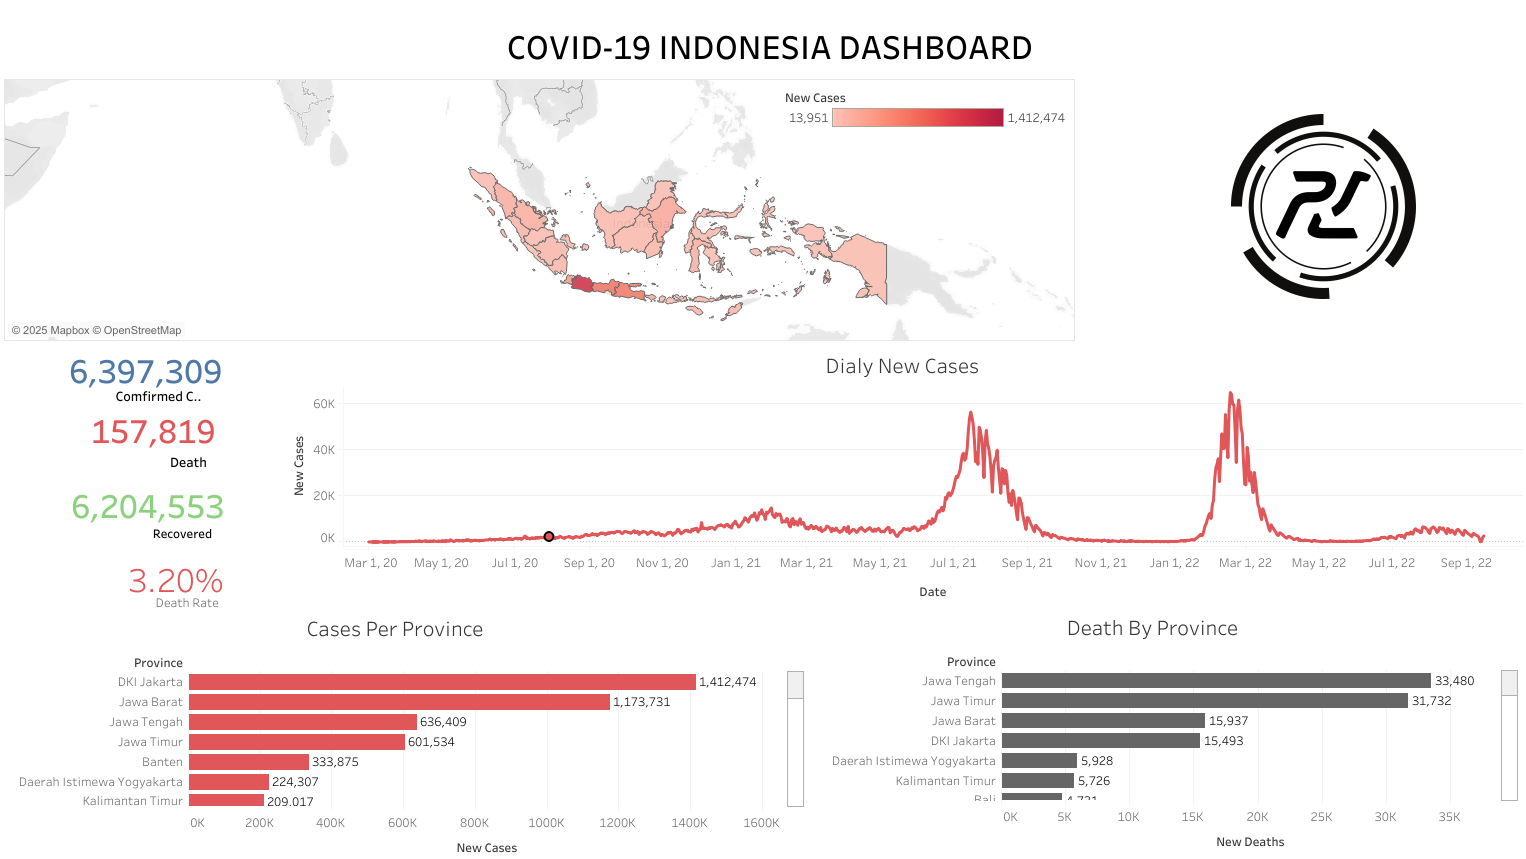

Layout of this report page (visuals, bound fields, positions):
{"tool":"tableau","page":{"name":"Dashboard","canvas":[1000,1000],"units":"permille","ordinal":0},"visuals":[{"type":"blank","box":[0,0,1000,1000]},{"type":"text","box":[8.2,16.6,991.8,74.1]},{"type":"worksheet","title":"Map Distribution Covid","mark":"Automatic","box":[2.9,91.8,700.8,304.2]},{"type":"legend","title":"Map Distribution Covid","param":"[federated.0qubuvm1jc4x7k1gman311dftvfd].[sum:New Cases:qk]","box":[514,97.4,186.8,88.5]},{"type":"image","param":"Image/1_20250618_195004_0000.png","box":[806.3,132.7,121.1,214.6]},{"type":"worksheet","title":"Dialy New Cases","mark":"Automatic","rows":["New Cases"],"cols":["Date"],"box":[184.4,401.6,812.6,296.5]},{"type":"worksheet","title":"Confirmed Cases","mark":"Automatic","box":[31,404.9,151,58.6]},{"type":"text","box":[72.6,442.5,62.1,34.3]},{"type":"worksheet","title":"Death","mark":"Automatic","box":[53.3,474.6,136.4,57.5]},{"type":"text","box":[106,519.9,34.5,33.2]},{"type":"worksheet","title":"Recovered","mark":"Automatic","box":[32.2,562,152.8,73]},{"type":"text","box":[90.2,602.9,58.6,33.2]},{"type":"worksheet","title":"Death Rate","mark":"Automatic","box":[71.4,646,111.2,66.4]},{"type":"text","box":[100.1,682.5,43.3,33.2]},{"type":"worksheet","title":"Death By Province","mark":"Automatic","rows":["Province"],"cols":["New Deaths"],"box":[526.9,705.8,467.2,290.9]},{"type":"worksheet","title":"Cases Per Province","mark":"Automatic","rows":["Province"],"cols":["New Cases"],"box":[2.9,706.9,523.4,296.5]}]}

Visuals, with their boxes on the dashboard's canvas, which has no fixed pixel size, in thousandths of its width and height (x1, y1, x2, y2). These are canvas units, not pixel positions in the 1526x859 screenshot, which may show the page scaled, cropped or inside an application window:
blank: box=[0, 0, 1000, 1000]
text: box=[8, 17, 1000, 91]
"Map Distribution Covid" worksheet: box=[3, 92, 704, 396]
"Map Distribution Covid" legend: box=[514, 97, 701, 186]
image: box=[806, 133, 927, 347]
"Dialy New Cases" worksheet: box=[184, 402, 997, 698]
"Confirmed Cases" worksheet: box=[31, 405, 182, 464]
text: box=[73, 442, 135, 477]
"Death" worksheet: box=[53, 475, 190, 532]
text: box=[106, 520, 140, 553]
"Recovered" worksheet: box=[32, 562, 185, 635]
text: box=[90, 603, 149, 636]
"Death Rate" worksheet: box=[71, 646, 183, 712]
text: box=[100, 682, 143, 716]
"Death By Province" worksheet: box=[527, 706, 994, 997]
"Cases Per Province" worksheet: box=[3, 707, 526, 1003]
